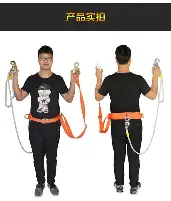safety belt2: (25, 103, 93, 144)
